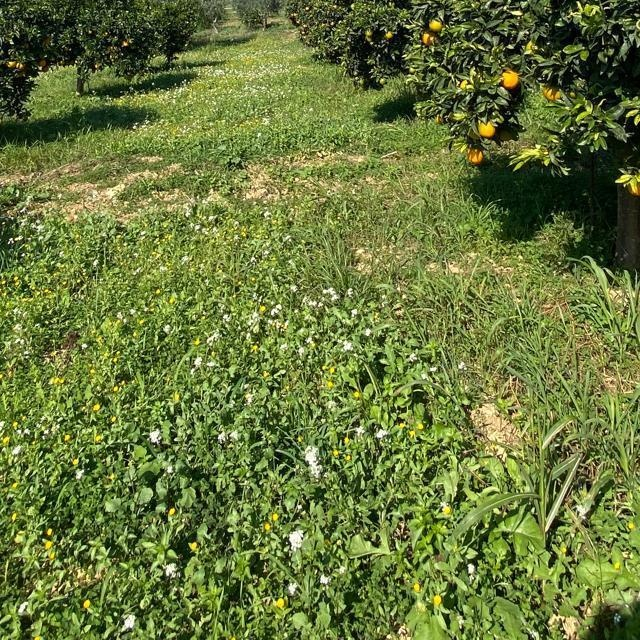orange: (500, 67, 522, 87), (478, 118, 500, 138), (542, 83, 564, 101), (625, 174, 640, 196), (464, 145, 482, 163), (366, 28, 384, 42), (427, 19, 443, 31), (635, 102, 640, 132), (420, 32, 432, 44), (15, 60, 25, 70), (6, 59, 14, 67), (385, 31, 391, 37), (39, 60, 45, 66), (122, 39, 128, 45)
